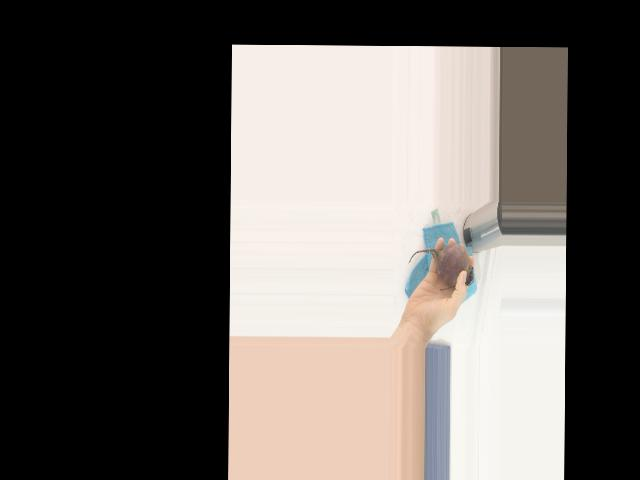beet: (408, 242, 474, 289)
